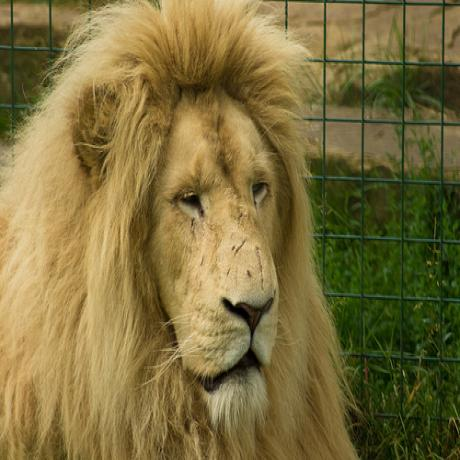Lion: (0, 0, 349, 460)
